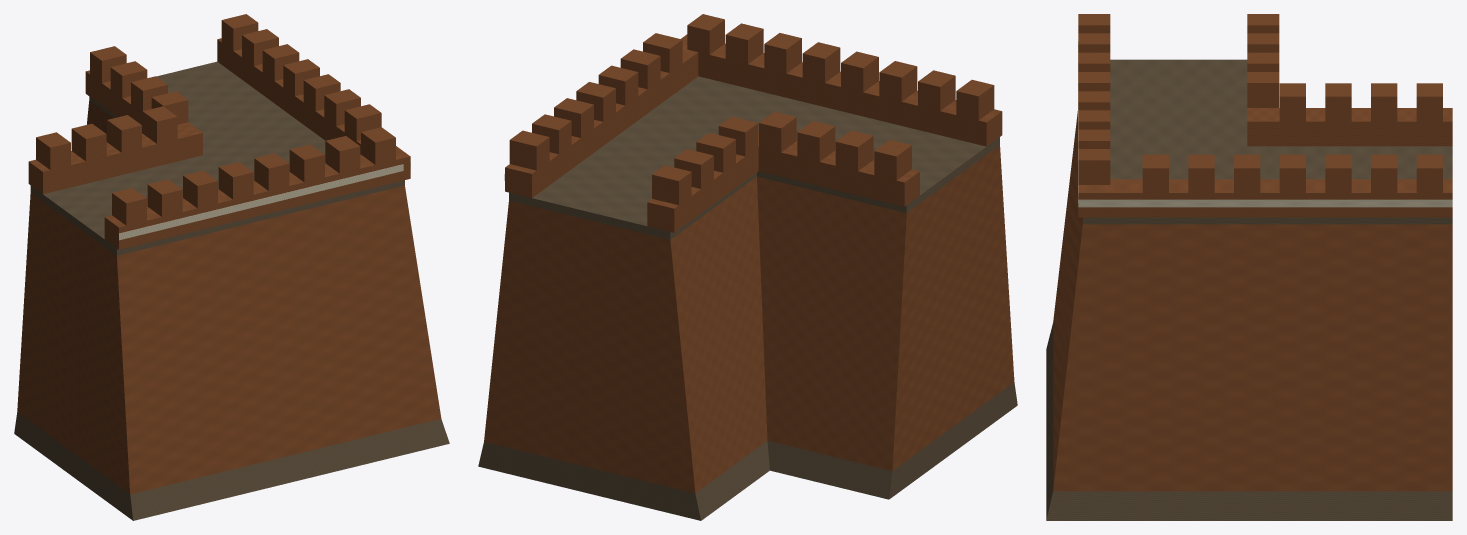
Rendered from Berber_Wall_Age2_corner_90.fbx.
The picture shows the model from 3 angles, left to right: view 1: azimuth 30°, elevation 25°; view 2: azimuth 150°, elevation 25°; view 3: azimuth 270°, elevation 25°; orthographic projection. The views are drawn at different scales.
Visible parts, largest first — view 1: corner_curtain, corner_walk, corner_foot, corner_outer_miter_guard, corner_inner_miter_guard, corner_owner_strip_x, corner_x_merlon.003, corner_x_merlon.001, corner_x_merlon.004, corner_x_merlon.006, corner_x_merlon.009, corner_x_merlon.011 (+17 smaller); view 2: corner_curtain, corner_walk, corner_foot, corner_outer_miter_guard, corner_inner_miter_guard, corner_y_merlon.006, corner_y_merlon.010, corner_x_merlon.010, corner_x_merlon.006, corner_x_merlon, corner_x_merlon.002, corner_x_merlon.009 (+16 smaller); view 3: corner_curtain, corner_walk, corner_foot, corner_outer_miter_guard, corner_inner_miter_guard, corner_owner_strip_y, corner_x_merlon.007, corner_x_merlon.011, corner_y_merlon.001, corner_y_merlon.004, corner_y_merlon.007, corner_y_merlon.008 (+17 smaller).
Boxes of the visible parts, x1,y1,x2,y2 form: corner_curtain: [17, 100, 441, 494]; corner_walk: [30, 61, 404, 255]; corner_foot: [14, 412, 449, 520]; corner_outer_miter_guard: [104, 38, 410, 249]; corner_inner_miter_guard: [28, 70, 202, 194]; corner_owner_strip_x: [119, 164, 403, 240]; corner_x_merlon.003: [218, 162, 253, 199]; corner_x_merlon.001: [147, 179, 182, 216]; corner_x_merlon.004: [254, 153, 289, 190]; corner_x_merlon.006: [325, 136, 360, 173]; corner_x_merlon.009: [71, 123, 106, 161]; corner_x_merlon.011: [142, 106, 177, 143]; corner_curtain: [484, 145, 1014, 493]; corner_walk: [509, 76, 999, 239]; corner_foot: [478, 382, 1017, 520]; corner_outer_miter_guard: [505, 34, 1002, 197]; corner_inner_miter_guard: [647, 132, 919, 232]; corner_y_merlon.006: [509, 130, 549, 170]; corner_y_merlon.010: [652, 165, 691, 205]; corner_x_merlon.010: [797, 121, 835, 161]; corner_x_merlon.006: [725, 23, 763, 64]; corner_x_merlon: [956, 79, 994, 120]; corner_x_merlon.002: [879, 61, 917, 101]; corner_x_merlon.009: [835, 130, 873, 170]; corner_curtain: [1053, 111, 1452, 491]; corner_walk: [1083, 59, 1452, 224]; corner_foot: [1046, 322, 1452, 520]; corner_outer_miter_guard: [1078, 179, 1452, 217]; corner_inner_miter_guard: [1247, 108, 1452, 146]; corner_owner_strip_y: [1078, 199, 1452, 207]; corner_x_merlon.007: [1078, 149, 1110, 184]; corner_x_merlon.011: [1247, 72, 1279, 107]; corner_y_merlon.001: [1188, 154, 1214, 192]; corner_y_merlon.004: [1325, 154, 1351, 192]; corner_y_merlon.007: [1279, 83, 1305, 121]; corner_y_merlon.008: [1325, 83, 1351, 121].
Size of the model in its own units: 890 by 820 by 890.
Materials: 3 (3 with a texture image).
